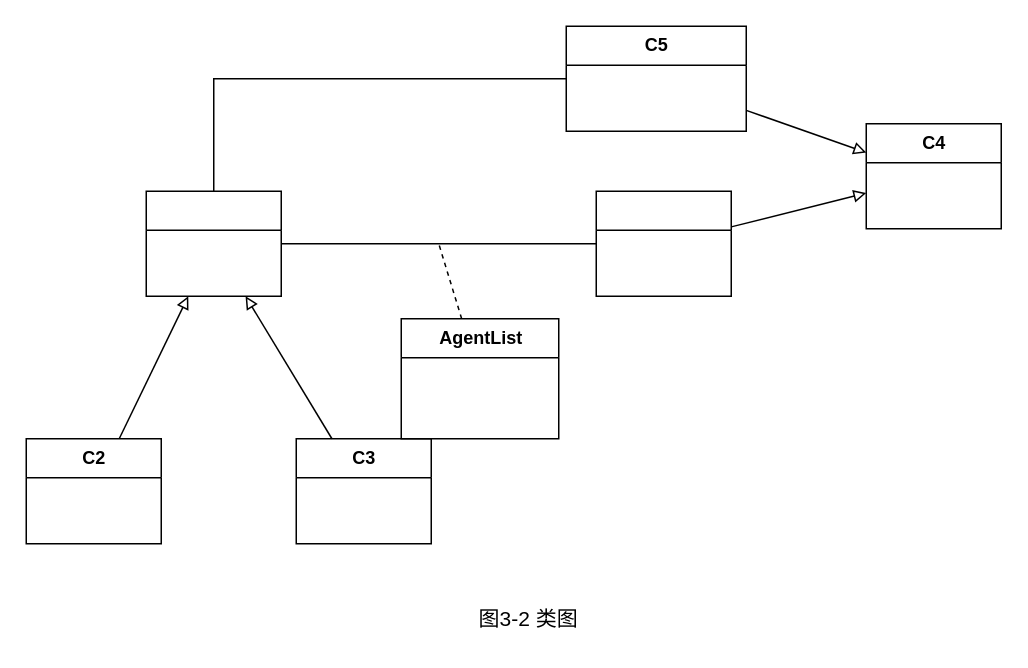
Some shapes in this 1028 by 668 pixel diagram are drawn without their labels. The shapes that lost their labels are listed below. From the top down, each one's centre as x and y in pixels, then its label:
At (x=213, y=243): "C1".
At (x=663, y=243): "C6".
